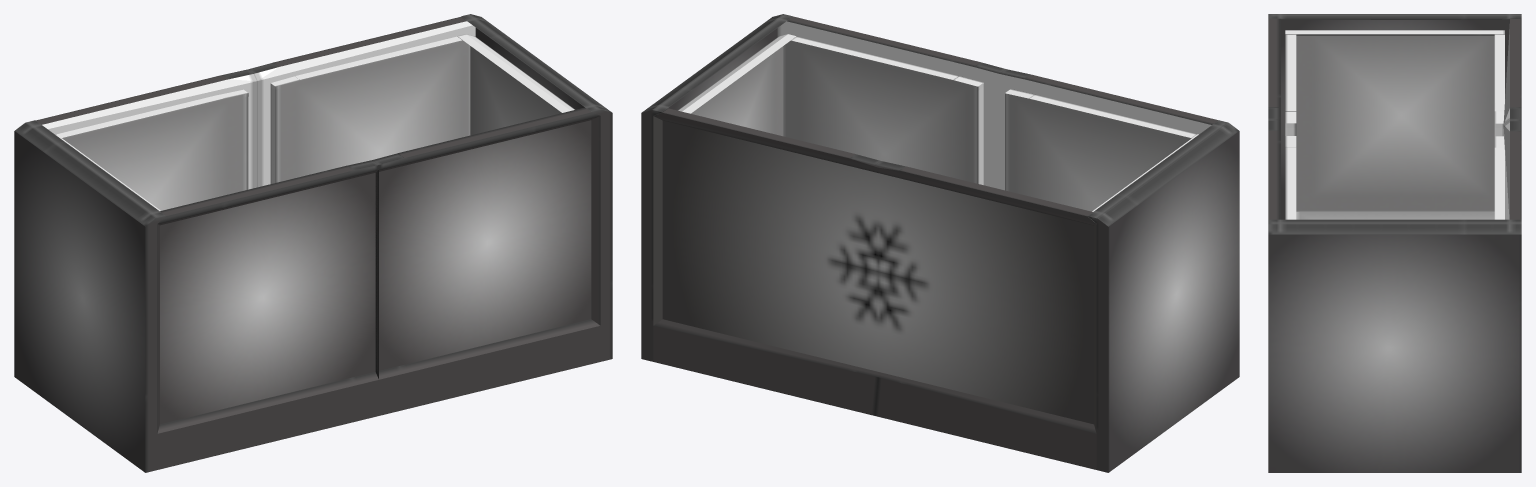
File: frigdeV3.fbx
3 renders of one model, left to right at view 1: azimuth 30°, elevation 25°; view 2: azimuth 150°, elevation 25°; view 3: azimuth 270°, elevation 25°, orthographic. The views are drawn at different scales.
Parts seen in each view (by area): view 1: Cube; view 2: Cube; view 3: Cube.
Part boxes in pixels (x1,y1,x2,y2): Cube: (14,14,612,472); Cube: (641,14,1239,472); Cube: (1268,14,1521,472).
Size of the model in its own units: 96.39 by 49.66 by 46.84.
